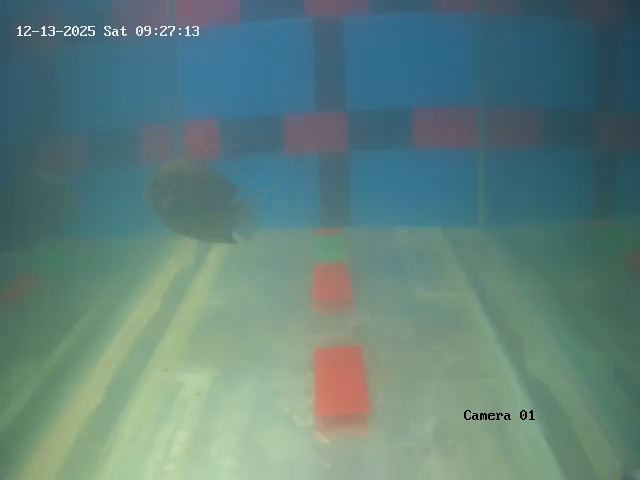fish: (142, 161, 258, 247)
